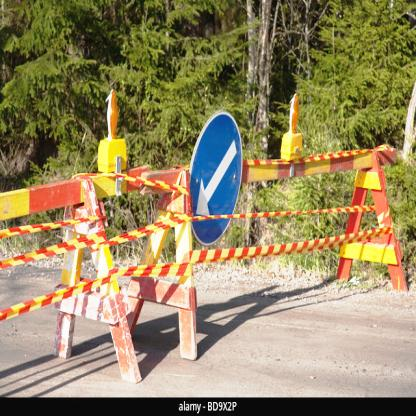Keep left: (187, 108, 242, 245)
